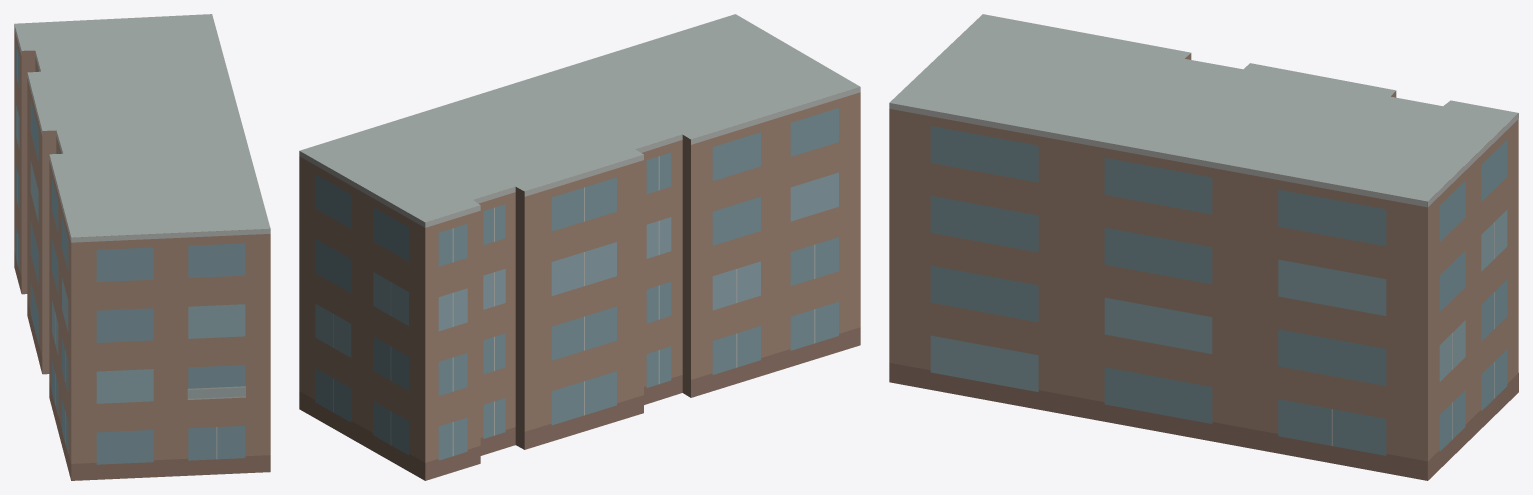
Rendered from survey-upis-32992870.glb.
The picture shows the model from 3 angles, left to right: view 1: azimuth 30°, elevation 25°; view 2: azimuth 150°, elevation 25°; view 3: azimuth 270°, elevation 25°; orthographic projection. The views are drawn at different scales.
Parts seen in each view (by area): view 1: survey-upis-32992870.tmp; view 2: survey-upis-32992870.tmp; view 3: survey-upis-32992870.tmp.
Boxes of the visible parts, bbox=[...] form: survey-upis-32992870.tmp: bbox=[14, 14, 270, 480]; survey-upis-32992870.tmp: bbox=[299, 14, 860, 480]; survey-upis-32992870.tmp: bbox=[889, 14, 1518, 480].
Bounding box in the file's own units: 16.71 × 11.6 × 23.7.
